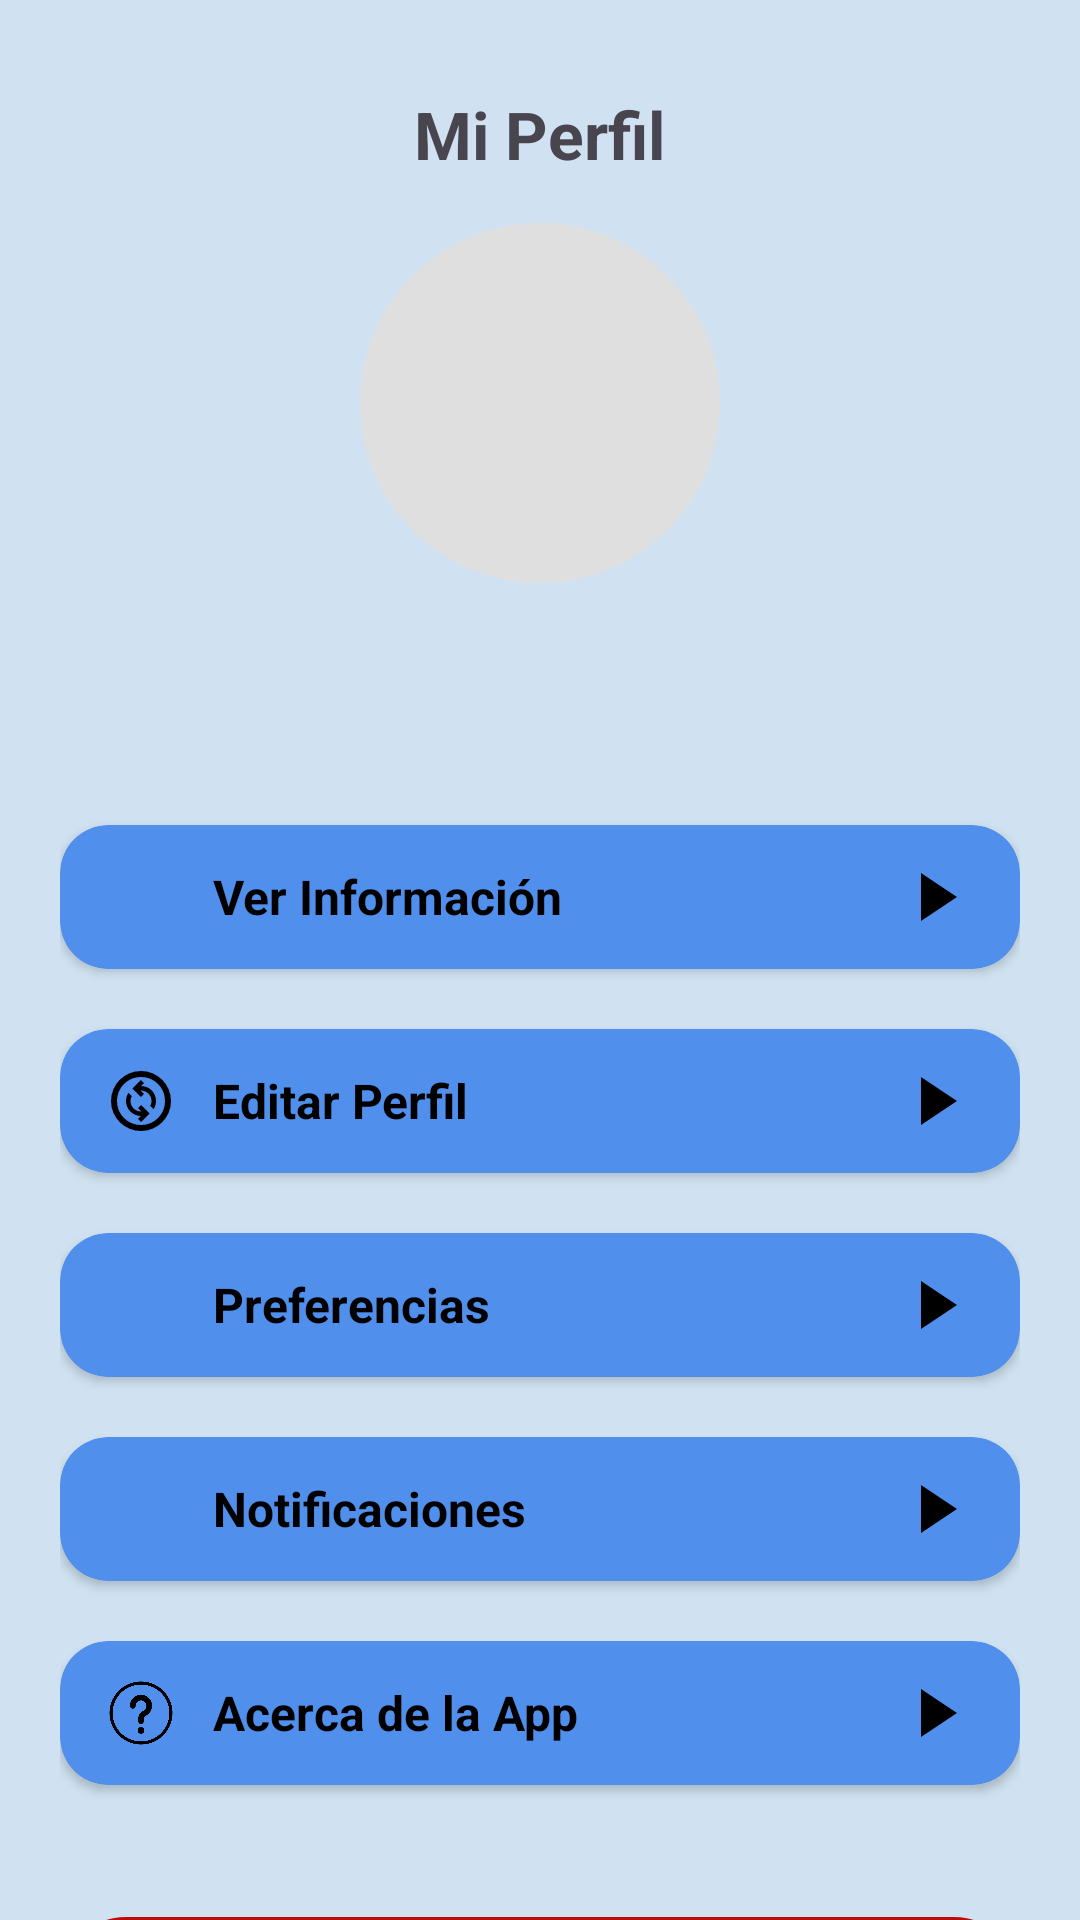

Where icons sit on this 1080x1920 app screen, as (x1, y1, x2, y2):
info: (109, 1681, 173, 1745)
ir derecha: (921, 873, 957, 921), (921, 1077, 957, 1125), (921, 1281, 957, 1329), (921, 1485, 957, 1533), (921, 1689, 957, 1737)
